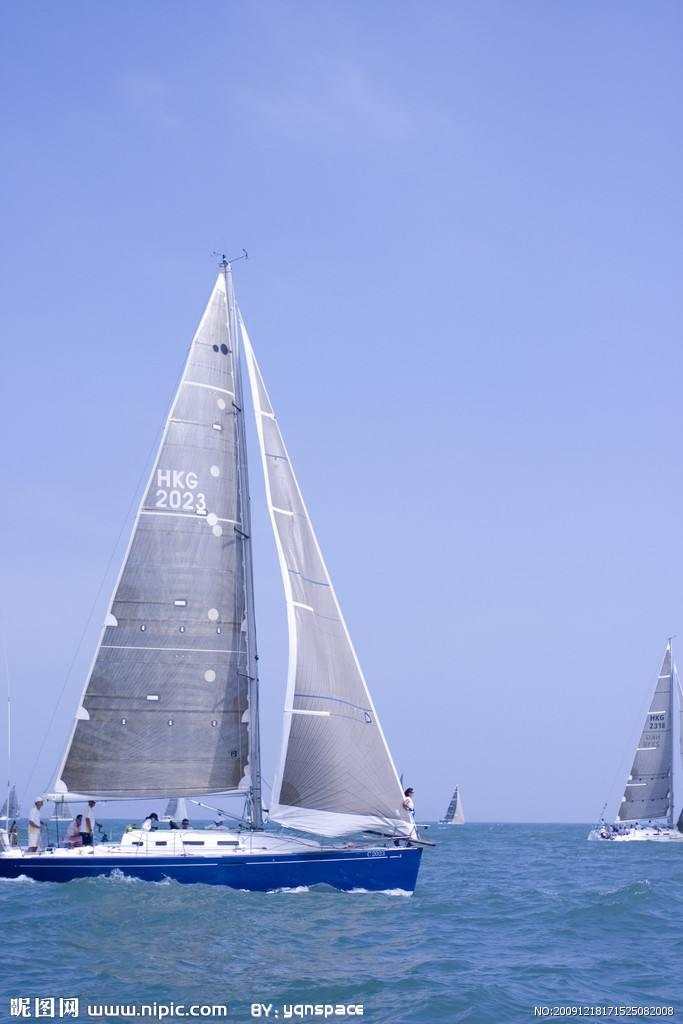fanchuan: (4, 234, 432, 894), (587, 636, 683, 856), (438, 789, 477, 835)
